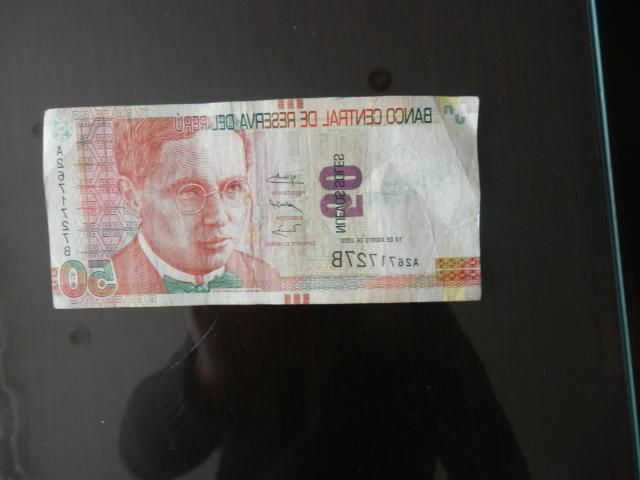B50: (43, 100, 486, 302)
